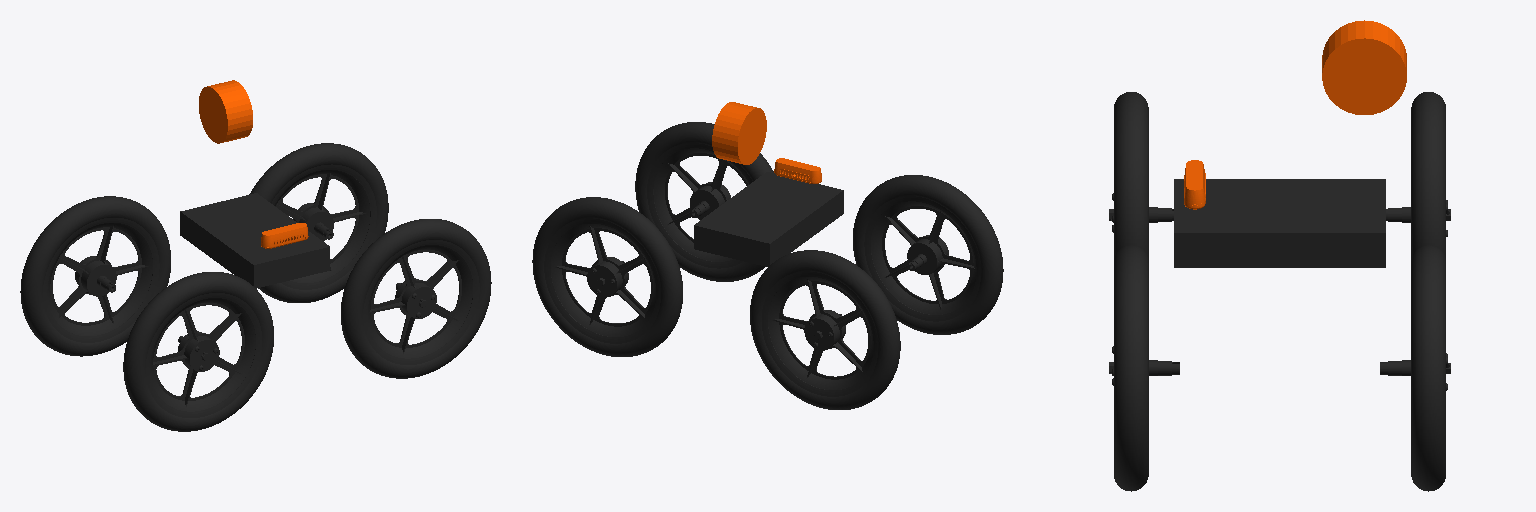
The robot description file, URDF, robot "espeleo":
<?xml version="1.0" ?>

<robot name="espeleo" xmlns:xacro="http://www.ros.org/wiki/xacro">


  <material name="black">
    <color rgba="0.0 0.0 0.0 1.0"/>
  </material>
  <material name="blue">
    <color rgba="0.0 0.0 0.8 1.0"/>
  </material>
  <material name="green">
    <color rgba="0.0 0.8 0.0 1.0"/>
  </material>
  <material name="grey">
    <color rgba="0.2 0.2 0.2 1.0"/>
  </material>
  <material name="orange">
    <color rgba="1.0 0.423529411765 0.0392156862745 1.0"/>
  </material>
  <material name="brown">
    <color rgba="0.870588235294 0.811764705882 0.764705882353 1.0"/>
  </material>
  <material name="red">
    <color rgba="0.8 0.0 0.0 1.0"/>
  </material>
  <material name="white">
    <color rgba="1.0 1.0 1.0 1.0"/>
  </material>

 
  <link name="base_link"/>

  <joint name="base_joint" type="fixed">
    <axis xyz="0 0 0"/>
    <origin rpy="0 0 0" xyz="0 0 .15 "/>
    <parent link="base_link"/>
    <child link="chassis"/>
  </joint>


  <link name="chassis">
    <collision>
      <origin rpy="0 0 0" xyz="0 0 0"/>
      <geometry>
        <box size="0.54 0.27 0.145"/>
      </geometry>
    </collision>
    <visual>
      <origin rpy="-1.57079632679 0 0" xyz="-0.283 -0.23 0.0725"/>
      <geometry>
        <mesh filename="package://espeleo_description/urdf/stl/Espeleo-22.STL" scale="0.001 0.001 0.001"/>
      </geometry>
      <material name="white"/>
    </visual>
    <inertial>
      <origin rpy="0 0 0" xyz="0 0 0.15"/>
      <mass value="0.5"/>
      <inertia ixx="0.01215" ixy="0" ixz="0" iyy="0.0030375" iyz="0" izz="0.0151875"/>
    </inertial>
  </link>



  <link name="left_front_wheel">
    <collision>
      <origin rpy="1.57079632679 0 0" xyz="0 0 0"/>
      <geometry>
        <cylinder length="0.043" radius="0.14"/>
      </geometry>
    </collision>
    <visual>
      <origin rpy="0 0 0" xyz="0 0 0"/>
      <geometry>
        <mesh filename="package://espeleo_description/urdf/stl/roda_esquerda.stl"/>
      </geometry>
      <material name="grey"/>
    </visual>
    <inertial>
      <origin rpy="1.57079632679 0 0 " xyz="0 0 0"/>
      <mass value="0.2"/>
      <inertia ixx="0.00101081666667" ixy="0" ixz="0" iyy="0.00101081666667" iyz="0" izz="0.00196"/>
    </inertial>
  </link>
  
  <joint name="left_front_wheel_joint" type="revolute">
    <parent link="chassis"/>
    <child link="left_front_wheel"/>
    <origin rpy="0 0 0" xyz="0.215 0.175 -0.01"/>
    <axis rpy="0 0 0" xyz="0 1 0"/>
    <limit command_effort="100" current="10" effort="80" gear_velocity="10" lower="-9.42" upper="9.42" velocity="15"/>   
    <joint_properties damping="0.0" friction="0.0"/>
  </joint>
  <transmission name="left_front_trans">
    <type>transmission_interface/SimpleTransmission</type>
    <joint name="left_front_wheel_joint">
      <hardwareInterface>EffortJointInterface</hardwareInterface>
    </joint>
    <actuator name="left_frontMotor">
      <hardwareInterface>EffortJointInterface</hardwareInterface>
      <mechanicalReduction>10</mechanicalReduction>
    </actuator>
  </transmission>




  <link name="left_back_wheel">
    <collision>
      <origin rpy="1.57079632679 0 0" xyz="0 0 0"/>
      <geometry>
        <cylinder length="0.043" radius="0.14"/>
      </geometry>
    </collision>
    <visual>
      <origin rpy="0 0 0" xyz="0 0 0"/>
      <geometry>
        <mesh filename="package://espeleo_description/urdf/stl/roda_esquerda.stl"/>
      </geometry>
      <material name="grey"/>
    </visual>
    <inertial>
      <origin rpy="1.57079632679 0 0 " xyz="0 0 0"/>
      <mass value="0.2"/>
      <inertia ixx="0.00101081666667" ixy="0" ixz="0" iyy="0.00101081666667" iyz="0" izz="0.00196"/>
    </inertial>
  </link>
  
  <joint name="left_back_wheel_joint" type="revolute">
    <parent link="chassis"/>
    <child link="left_back_wheel"/>
    <origin rpy="0 0 0" xyz="-0.212 0.175 -0.01"/>
    <axis rpy="0 0 0" xyz="0 1 0"/>
    <limit command_effort="100" current="10" effort="80" gear_velocity="10" lower="-9.42" upper="9.42" velocity="15"/> 
    <joint_properties damping="0.0" friction="0.0"/>
  </joint>
  <transmission name="left_back_trans">
    <type>transmission_interface/SimpleTransmission</type>
    <joint name="left_back_wheel_joint">
      <hardwareInterface>EffortJointInterface</hardwareInterface>
    </joint>
    <actuator name="left_backMotor">
      <hardwareInterface>EffortJointInterface</hardwareInterface>
      <mechanicalReduction>10</mechanicalReduction>
    </actuator>
  </transmission>
  <link name="right_front_wheel">
    <collision>
      <origin rpy="1.57079632679 0 0" xyz="0 0 0"/>
      <geometry>
        <cylinder length="0.043" radius="0.14"/>
      </geometry>
    </collision>
    <visual>
      <origin rpy="3.1415 0 3.14159265359" xyz="0 0 0"/>
      <geometry>
        <mesh filename="package://espeleo_description/urdf/stl/roda_esquerda.stl"/>
      </geometry>
      <material name="grey"/>
    </visual>
    <inertial>
      <origin rpy="1.57079632679 0 0 " xyz="0 0 0"/>
      <mass value="0.2"/>
      <inertia ixx="0.00101081666667" ixy="0" ixz="0" iyy="0.00101081666667" iyz="0" izz="0.00196"/>
    </inertial>
  </link>
  
  <joint name="right_front_wheel_joint" type="revolute">
    <parent link="chassis"/>
    <child link="right_front_wheel"/>
    <origin rpy="3.1415 0 0" xyz="0.215 -0.175 -0.01"/>
    <axis rpy="0 0 0" xyz="0 1 0"/>
    <limit command_effort="100" current="10" effort="80" gear_velocity="10" lower="-9.42" upper="9.42" velocity="15"/> 
    <joint_properties damping="0.0" friction="0.0"/>
  </joint>
  <transmission name="right_front_trans">
    <type>transmission_interface/SimpleTransmission</type>
    <joint name="right_front_wheel_joint">
      <hardwareInterface>EffortJointInterface</hardwareInterface>
    </joint>
    <actuator name="right_frontMotor">
      <hardwareInterface>EffortJointInterface</hardwareInterface>
      <mechanicalReduction>10</mechanicalReduction>
    </actuator>
  </transmission>
  
  <link name="right_back_wheel">
    <collision>
      <origin rpy="1.57079632679 0 0" xyz="0 0 0"/>
      <geometry>
        <cylinder length="0.043" radius="0.14"/>
      </geometry>
    </collision>
    <visual>
      <origin rpy="3.1415 0 3.14159265359" xyz="0 0 0"/>
      <geometry>
        <mesh filename="package://espeleo_description/urdf/stl/roda_esquerda.stl"/>
      </geometry>
      <material name="grey"/>
    </visual>
    <inertial>
      <origin rpy="1.57079632679 0 0 " xyz="0 0 0"/>
      <mass value="0.2"/>
      <inertia ixx="0.00101081666667" ixy="0" ixz="0" iyy="0.00101081666667" iyz="0" izz="0.00196"/>
    </inertial>
  </link>
  
  <joint name="right_back_wheel_joint" type="revolute">
    <parent link="chassis"/>
    <child link="right_back_wheel"/>
    <origin rpy="3.1415 0 0" xyz="-0.212 -0.175 -0.01"/>
    <axis rpy="0 0 0" xyz="0 1 0"/>
    <limit command_effort="100" current="10" effort="80" gear_velocity="10" lower="-9.42" upper="9.42" velocity="15"/> 
    <joint_properties damping="0.0" friction="0.0"/>
  </joint>
  <transmission name="right_back_trans">
    <type>transmission_interface/SimpleTransmission</type>
    <joint name="right_back_wheel_joint">
      <hardwareInterface>EffortJointInterface</hardwareInterface>
    </joint>
    <actuator name="right_backMotor">
      <hardwareInterface>EffortJointInterface</hardwareInterface>
      <mechanicalReduction>10</mechanicalReduction>
    </actuator>
  </transmission>




  <link name="box">
    <collision>
      <origin rpy="0 0 0" xyz="0 0 0.0775"/>
      <geometry>
        <box size="0.15 0.25 0.045"/>
      </geometry>
    </collision>
    <visual>
      <origin rpy="0 0 0" xyz="0 0 0.0775"/>
      <geometry>
        <box size="0.15 0.25 0.045"/>
      </geometry>
      <material name="grey"/>
    </visual>
  </link>
  <joint name="box_joint" type="fixed">
    <axis xyz="0 0 0"/>
    <origin rpy="0 0 3.1415" xyz="0 0 0 "/>
    <parent link="chassis"/>
    <child link="box"/>
  </joint>


<!-- Camera D435i -->
  <joint name="realsense_d435_joint" type="fixed">
    <axis xyz="0 0 0"/>
     <origin rpy="0 0 0" xyz="0. 0.1 0.12 "/> 
    <parent link="box"/>
    <child link="d435i_link"/>
  </joint>
  <link name="d435i_link">
    <collision>
      <origin rpy="0 0 3.14" xyz="0.01 0 0"/>
      <geometry>
        <box size="0 0 0"/>
      </geometry>
    </collision>
    <visual>
      <origin rpy="0 0 0" xyz="-0.045 -0.0125 -0.005"/>
      <geometry>
        <mesh filename="package://espeleo_description/urdf/stl/realsense_d435.STL" scale="0.001 0.001 0.001"/>
      </geometry>
      <material name="orange"/>
    </visual>
  </link>
<!-- Camera D435i simulada -->
  <joint name="realsense_d435_sim_joint" type="fixed">
    <axis xyz="0 0 0"/>
     <origin rpy="1.57 0 0" xyz="0 0 0"/> 
    <parent link="d435i_link"/>
    <child link="d435i_sim_link"/>
  </joint>
  <link name="d435i_sim_link">
  </link>


<!-- PanTilt -->
<link name="ptu_tilt_link">
    <inertial>
      <mass value="0.65"/>
      <origin rpy="0 0 0" xyz="0 0 0"/>
      <inertia ixx="0.0001" ixy="0" ixz="0" iyy="0.0001" iyz="0" izz="0.0001"/>
    </inertial>
    <visual>
      <material name="ptu_body_color">
        <color rgba="0.3 0.3 0.3 1.0"/>
      </material>
      <geometry>
        <mesh filename="package://flir_ptu_description/meshes/flir-ptu-tilt-motor.stl"/>
      </geometry>
    </visual>
    <collision>
      <geometry>
        <mesh filename="package://flir_ptu_description/meshes/flir-ptu-tilt-motor-collision.stl"/>
      </geometry>
    </collision>
  </link>
  <gazebo reference="ptu_tilt_link">
    <material>Gazebo/DarkGrey</material>
  </gazebo>
  <link name="ptu_pan_link">
    <inertial>
      <mass value="0.65"/>
      <origin rpy="0 0 0" xyz="0 0 0"/>
      <inertia ixx="0.0001" ixy="0" ixz="0" iyy="0.0001" iyz="0" izz="0.0001"/>
    </inertial>
    <visual>
      <material name="ptu_body_color">
        <color rgba="0.3 0.3 0.3 1.0"/>
      </material>
      <geometry>
        <mesh filename="package://flir_ptu_description/meshes/flir-ptu-pan-motor.stl"/>
      </geometry>
    </visual>
    <collision>
      <geometry>
        <mesh filename="package://flir_ptu_description/meshes/flir-ptu-pan-motor-collision.stl"/>
      </geometry>
    </collision>
  </link>
  <gazebo reference="ptu_pan_link">
    <material>Gazebo/DarkGrey</material>
  </gazebo>
  <link name="ptu_base_link">
    <inertial>
      <mass value="2e-06"/>
      <inertia ixx="1.1e-09" ixy="0" ixz="0" iyy="1.1e-09" iyz="0" izz="1.1e-09"/>
    </inertial>
  </link>
  <link name="ptu_tilted_link">
    <visual>
      <material name="ptu_body_color">
        <color rgba="0.3 0.3 0.3 1.0"/>
      </material>
      <geometry>
        <mesh filename="package://flir_ptu_description/meshes/flir-ptu-camera-mount.stl"/>
      </geometry>
    </visual>
    <collision>
      <geometry>
        <mesh filename="package://flir_ptu_description/meshes/flir-ptu-camera-mount.stl"/>
      </geometry>
    </collision>
  </link>
  <link name="ptu_mount_link">
    <inertial>
      <mass value="2e-06"/>
      <inertia ixx="1.1e-09" ixy="0" ixz="0" iyy="1.1e-09" iyz="0" izz="1.1e-09"/>
    </inertial>
  </link>
  <joint name="ptu_base" type="fixed">
    <parent link="ptu_base_link"/>
    <child link="ptu_pan_link"/>
    <origin xyz="0 0 0"/>
  </joint>
  <!-- The pan joint -->
  <joint name="ptu_pan" type="revolute">
    <parent link="ptu_pan_link"/>
    <origin rpy="-1.5708 0 0.0" xyz="0 -0.00955 0.046774"/>
    <child link="ptu_tilt_link"/>
    <axis rpy="3.14159 0 0" xyz="0 -1 0"/>
    <limit effort="30" lower="-2.775" upper="2.775" velocity="1.0"/>
  </joint>
  <transmission name="ptu_pan_trans">
    <type>transmission_interface/SimpleTransmission</type>
    <joint name="ptu_pan">
      <hardwareInterface>PositionJointInterface</hardwareInterface>
    </joint>
    <actuator name="ptu_pan_motor">
      <mechanicalReduction>1</mechanicalReduction>
    </actuator>
  </transmission>
  <!-- The tilt joint -->
  <joint name="ptu_tilt" type="revolute">
    <parent link="ptu_tilt_link"/>
    <origin rpy="-1.5708 0 0" xyz="0 -0.043713 0"/>
    <child link="ptu_tilted_link"/>
    <axis xyz="0 1 0"/>
    <limit effort="30" lower="-0.82" upper="0.52" velocity="1.0"/>
  </joint>
  <transmission name="ptu_tilt_trans">
    <type>transmission_interface/SimpleTransmission</type>
    <joint name="ptu_tilt">
      <hardwareInterface>PositionJointInterface</hardwareInterface>
    </joint>
    <actuator name="ptu_tilt_motor">
      <mechanicalReduction>1</mechanicalReduction>
    </actuator>
  </transmission>
  <!-- Fixed joint to provide a convenient attachment point for accessories. -->
  <joint name="ptu_mount" type="fixed">
    <parent link="ptu_tilted_link"/>
    <child link="ptu_mount_link"/>
    <origin rpy="3.1416 0 0" xyz="0 0 -0.039116"/>
  </joint>
  <!-- Create a fixed joint to connect the PTU to the rest of the robot -->
  <joint name="base_to_ptu_base" type="fixed">
    <parent link="box"/>
    <child link="ptu_base_link"/>
    <origin xyz="0 -0.09 0.1"/>
  </joint>


  <!-- Laser Lidar -->
  <joint name="laser_joint" type="fixed">
    <axis xyz="0 0 0"/>
    <origin rpy="0 -1.57 0" xyz="0 0 0.05 "/>
    <parent link="ptu_mount_link"/>
    <child link="os1_sensor"/>
  </joint>
  <link name="os1_sensor">
    <collision>
      <origin rpy="0 0 0" xyz="0 0 0.025"/>
      <geometry>
        <cylinder radius="0.05" length="0.05"/>
      </geometry>
    </collision>
    <visual>
      <origin rpy="0 0 0" xyz="0 0 0"/>
      <geometry>
        <cylinder radius="0.05" length="0.05"/>
      </geometry>
      <material name="orange"/>
    </visual>
  </link>



</robot>

--- Facts derived from the render (not from the file) ---
The picture shows the robot from 3 angles, left to right: view 1: azimuth 30°, elevation 25°; view 2: azimuth 150°, elevation 25°; view 3: azimuth 270°, elevation 25°; orthographic projection.
Model espeleo with 15 links and 14 joints (6 revolute, 8 fixed), rooted at base_link, posed all joints at 0.
Links seen in each view (by area): view 1: right_back_wheel, right_front_wheel, left_back_wheel, left_front_wheel, box, os1_sensor, d435i_link; view 2: left_back_wheel, left_front_wheel, right_back_wheel, right_front_wheel, box, os1_sensor, d435i_link; view 3: box, right_front_wheel, left_front_wheel, os1_sensor, left_back_wheel, right_back_wheel, d435i_link.
Boxes of the visible links, <box> form: right_back_wheel: <box>123,272,273,431</box>; right_front_wheel: <box>341,219,491,378</box>; left_back_wheel: <box>20,196,170,356</box>; left_front_wheel: <box>249,143,388,302</box>; box: <box>180,193,329,288</box>; os1_sensor: <box>199,80,252,143</box>; d435i_link: <box>261,223,308,248</box>; left_back_wheel: <box>750,250,900,409</box>; left_front_wheel: <box>532,197,682,356</box>; right_back_wheel: <box>853,175,1003,334</box>; right_front_wheel: <box>635,122,773,281</box>; box: <box>694,172,843,266</box>; os1_sensor: <box>712,102,766,164</box>; d435i_link: <box>774,158,821,183</box>; box: <box>1174,179,1385,267</box>; right_front_wheel: <box>1109,245,1179,491</box>; left_front_wheel: <box>1380,245,1450,491</box>; os1_sensor: <box>1322,20,1406,114</box>; left_back_wheel: <box>1386,92,1450,259</box>; right_back_wheel: <box>1109,92,1173,259</box>; d435i_link: <box>1184,160,1205,209</box>.
Bounding box of the posed robot: 0.717 × 0.4028 × 0.4846 m (x, y, z).
Meshes: 6 distinct files referenced, 5 mesh visuals loaded (2 binary STL); not drawn: 4 (reference not matched to a file when rendering).